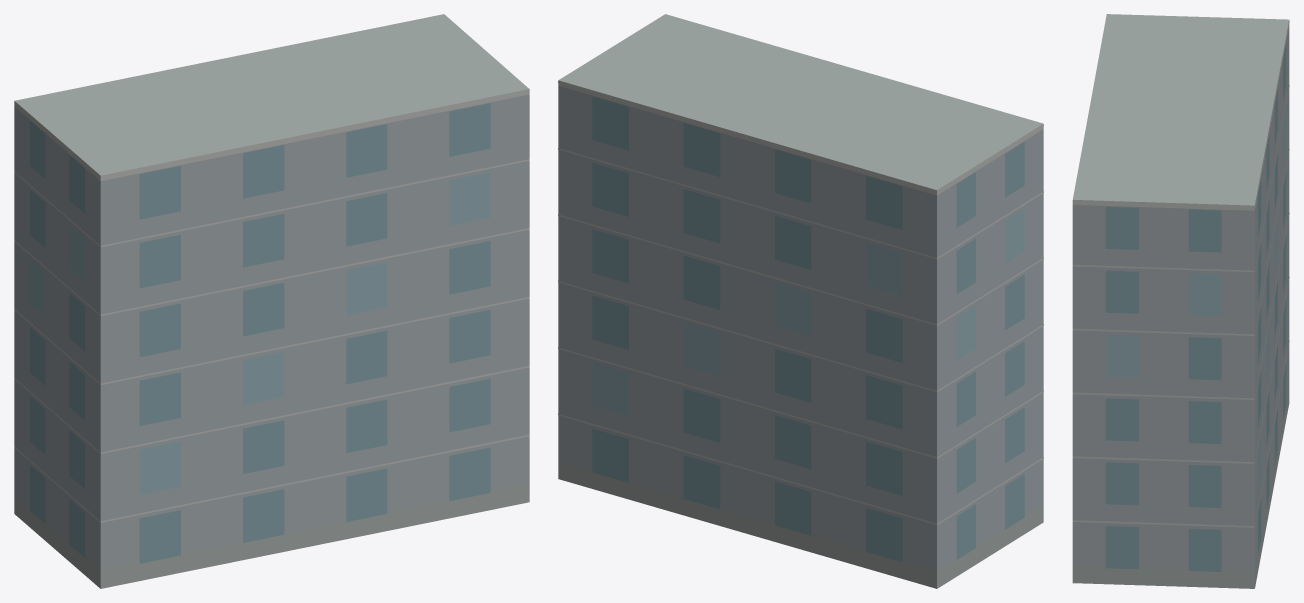
The model's file is survey-upis-32751950.glb.
3 renders of one model, left to right at view 1: azimuth 30°, elevation 25°; view 2: azimuth 150°, elevation 25°; view 3: azimuth 270°, elevation 25°, orthographic. The views are drawn at different scales.
Visible parts, largest first — view 1: survey-upis-32751950.tmp; view 2: survey-upis-32751950.tmp; view 3: survey-upis-32751950.tmp.
Part boxes in pixels (x1=…): survey-upis-32751950.tmp: x1=14, y1=14, x2=529, y2=588; survey-upis-32751950.tmp: x1=558, y1=14, x2=1043, y2=588; survey-upis-32751950.tmp: x1=1072, y1=14, x2=1289, y2=588.
Bounding box in the file's own units: 19.65 × 18.3 × 9.4.
